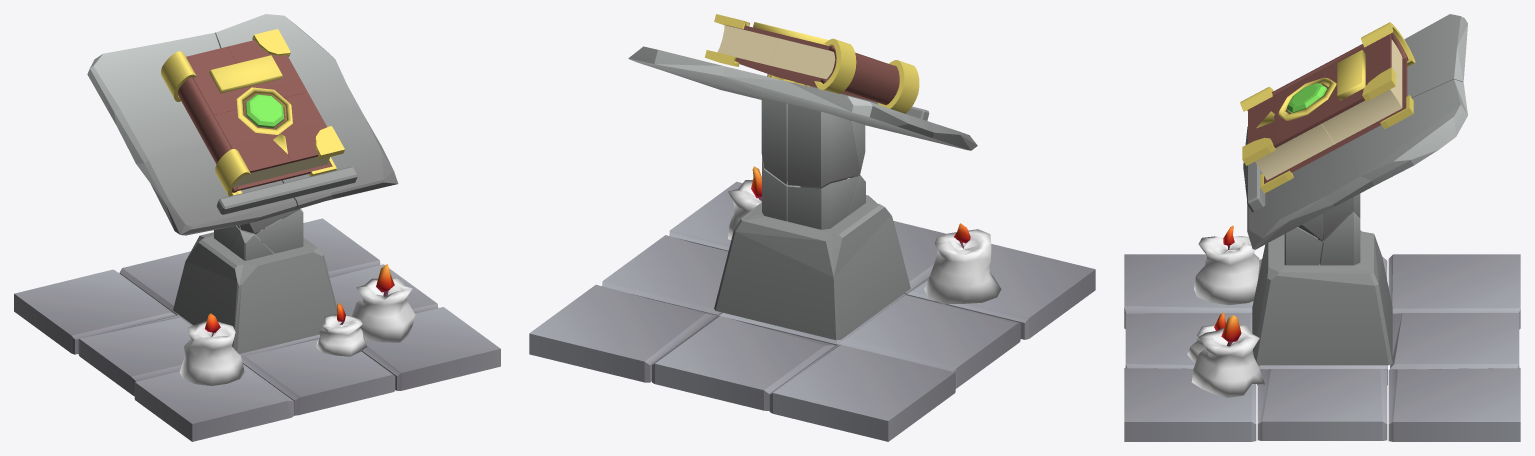
File: Level_P_19.fbx
3 renders of one model, left to right at view 1: azimuth 30°, elevation 25°; view 2: azimuth 150°, elevation 25°; view 3: azimuth 270°, elevation 25°, orthographic. The views are drawn at different scales.
Parts seen in each view (by area): view 1: Cube_19.039, Cube_19.033, Cube_19.038, Cube_19.040, Cube_19.043, Cube_19.044, Cube_19.042, Cube_19.048, Cube_19.034, Cube_19.013, Cube_19.012, Cube_19.011 (+19 smaller); view 2: Cube_19.033, Cube_19.040, Cube_19.041, Cube_19.045, Cube_19.048, Cube_19.043, Cube_19.047, Cube_19.039, Cube_19.036, Cube_19.034, Cube_19.035, Cube_19.038 (+12 smaller); view 3: Cube_19.033, Cube_19.038, Cube_19.041, Cube_19.047, Cube_19.042, Cube_19.040, Cube_19.045, Cube_19.043, Cube_19.044, Cube_19.013, Cube_19.039, Cube_19.034 (+20 smaller).
Boxes of the visible parts, bbox=[...] form: Cube_19.039: bbox=[87, 33, 296, 235]; Cube_19.033: bbox=[173, 232, 337, 353]; Cube_19.038: bbox=[215, 14, 398, 209]; Cube_19.040: bbox=[14, 269, 176, 354]; Cube_19.043: bbox=[134, 364, 294, 441]; Cube_19.044: bbox=[241, 339, 395, 415]; Cube_19.042: bbox=[361, 307, 500, 390]; Cube_19.048: bbox=[78, 315, 191, 396]; Cube_19.034: bbox=[179, 313, 244, 385]; Cube_19.013: bbox=[352, 264, 415, 342]; Cube_19.012: bbox=[216, 166, 357, 214]; Cube_19.011: bbox=[214, 107, 291, 172]; Cube_19.033: bbox=[714, 195, 910, 340]; Cube_19.040: bbox=[769, 344, 955, 441]; Cube_19.041: bbox=[529, 284, 717, 382]; Cube_19.045: bbox=[652, 316, 835, 410]; Cube_19.048: bbox=[838, 295, 1020, 388]; Cube_19.043: bbox=[907, 244, 1095, 339]; Cube_19.047: bbox=[602, 235, 728, 316]; Cube_19.039: bbox=[723, 66, 977, 150]; Cube_19.036: bbox=[787, 103, 859, 187]; Cube_19.034: bbox=[924, 223, 1001, 304]; Cube_19.035: bbox=[787, 176, 859, 229]; Cube_19.038: bbox=[628, 46, 813, 109]; Cube_19.033: bbox=[1252, 230, 1392, 365]; Cube_19.038: bbox=[1245, 79, 1467, 249]; Cube_19.041: bbox=[1388, 368, 1520, 441]; Cube_19.047: bbox=[1257, 369, 1387, 440]; Cube_19.042: bbox=[1124, 368, 1256, 441]; Cube_19.040: bbox=[1388, 254, 1520, 329]; Cube_19.045: bbox=[1390, 313, 1519, 369]; Cube_19.043: bbox=[1124, 254, 1253, 328]; Cube_19.044: bbox=[1125, 313, 1252, 368]; Cube_19.013: bbox=[1191, 315, 1265, 397]; Cube_19.039: bbox=[1243, 14, 1467, 185]; Cube_19.034: bbox=[1194, 225, 1259, 305].
Bounding box in the file's own units: 17.66 × 15.24 × 17.66.
